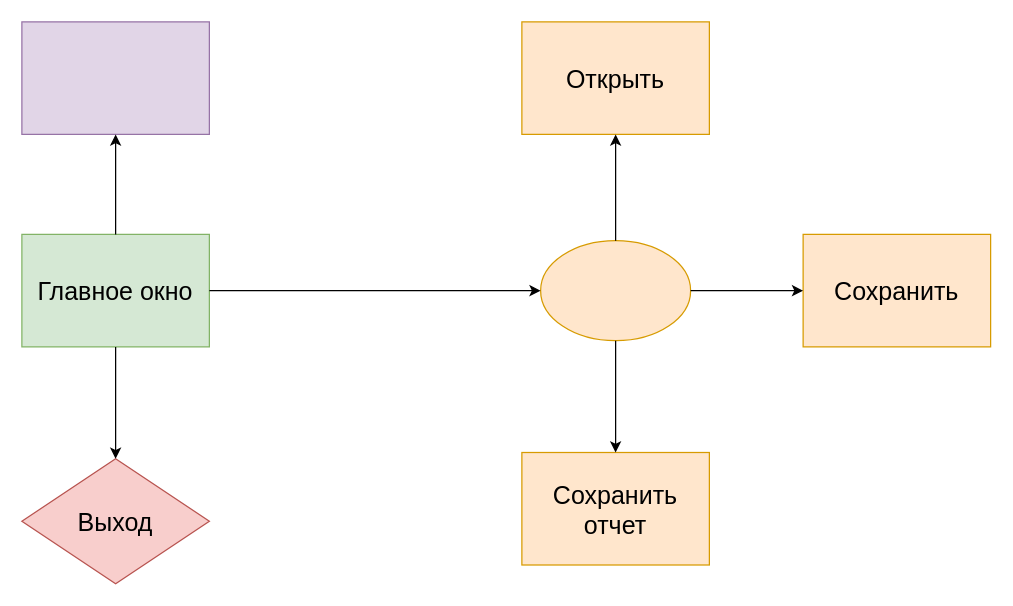
The diagram is 1013 pixels wide and 606 high, and some of its shapes have lost their labels. Each missing label, with the box of its shape:
Справка: (21, 21, 209, 134)
Файл (компонент меню): (539, 239, 691, 341)
